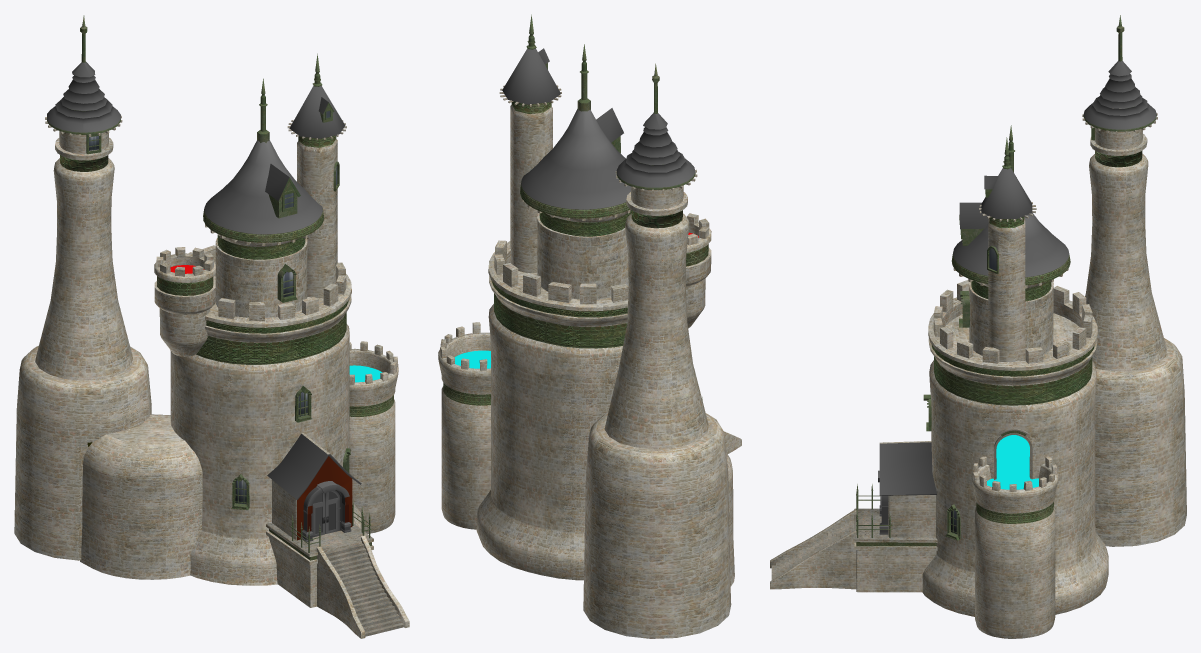
Rendered from port_tower_town.FBX.
3 renders of one model, left to right at view 1: azimuth 30°, elevation 25°; view 2: azimuth 150°, elevation 25°; view 3: azimuth 270°, elevation 25°, orthographic. The views are drawn at different scales.
Visible parts, largest first — view 1: port_tower_town_exterior, port_tower_town_decowallext, port_tower_town_doorright, port_tower_town_doorleft; view 2: port_tower_town_exterior, port_tower_town_decofloor; view 3: port_tower_town_exterior, port_tower_town_decofloor.
Boxes of the visible parts, x1,y1,x2,y2 form: port_tower_town_exterior: (14,15,409,638); port_tower_town_decowallext: (297,456,352,540); port_tower_town_doorright: (325,490,340,533); port_tower_town_doorleft: (311,493,325,537); port_tower_town_exterior: (438,14,741,638); port_tower_town_decofloor: (454,350,490,368); port_tower_town_exterior: (770,15,1186,638); port_tower_town_decofloor: (987,435,1038,489).
Size of what is drawn, in the model's own units: 2489 by 3913 by 2919.
